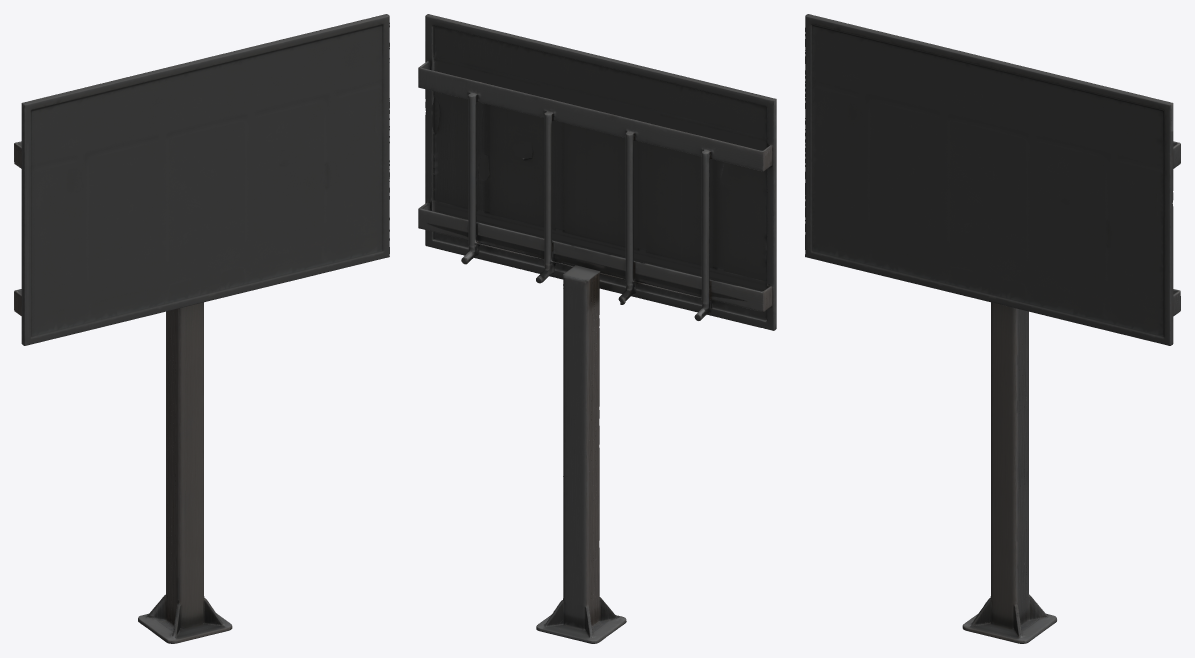
File: tv_on_a_pole.glb
3 renders of one model, left to right at view 1: azimuth 30°, elevation 25°; view 2: azimuth 150°, elevation 25°; view 3: azimuth 330°, elevation 25°, orthographic. The views are drawn at different scales.
Size of the model in its own units: 1.32 by 2 by 0.2479.
Materials: 1 (1 with a texture image).
